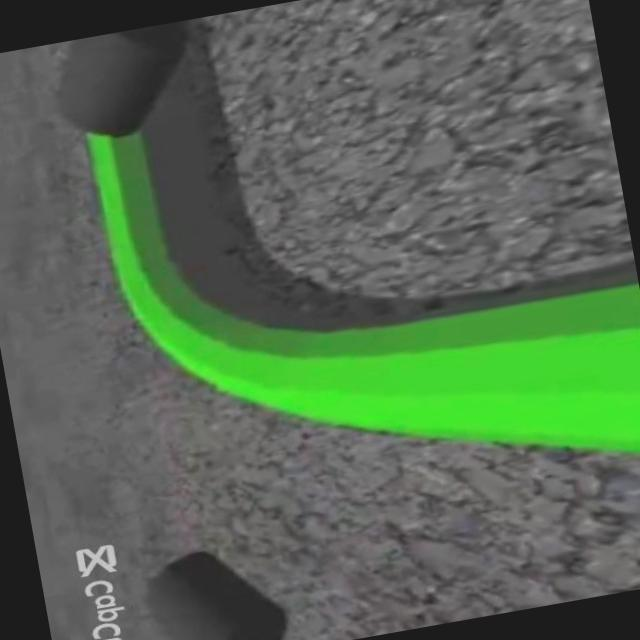gas: (141, 241, 640, 545), (87, 125, 280, 438)
